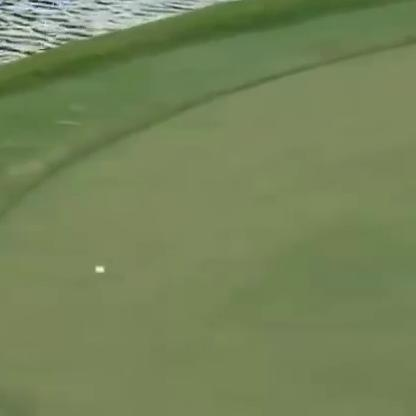golfball: (93, 263, 106, 274)
